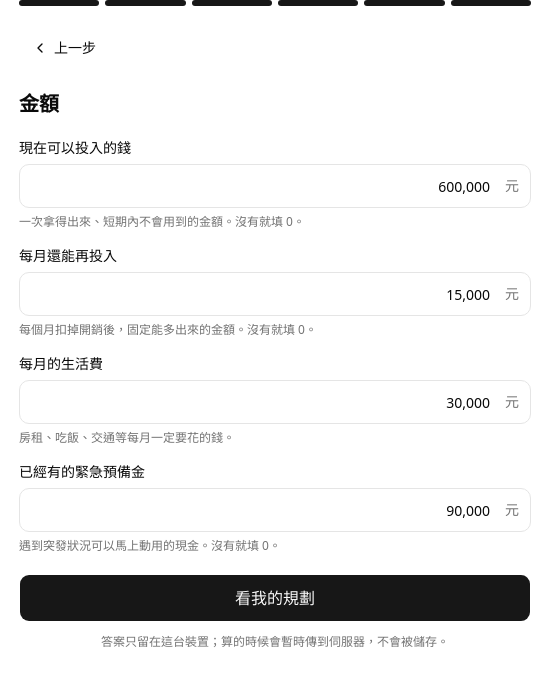
Test: QuestionnaireWizard › shows an amount error only after the field is blurred
The width and height of the screenshot is (551, 690).
Replace the text in the field labelled "現在可以投入的錢" with "12.5" at (275, 186), box [19, 164, 531, 208]
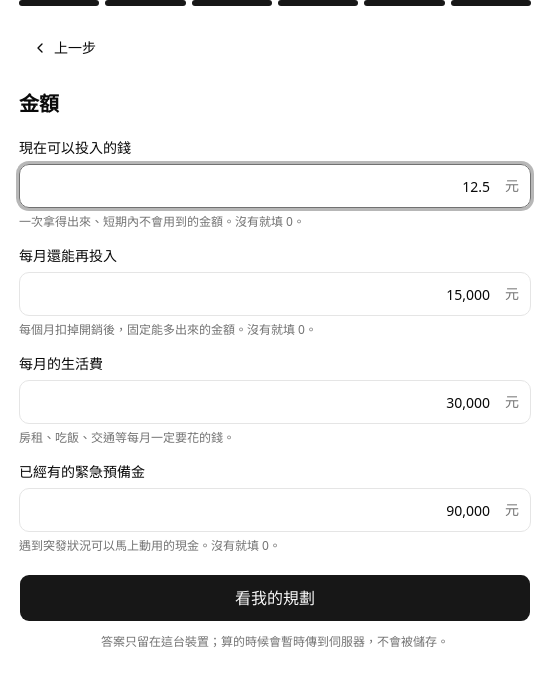
Check: the text "請只填整數數字，不要有小數點、負號或文字。" is not shown
Press Tab
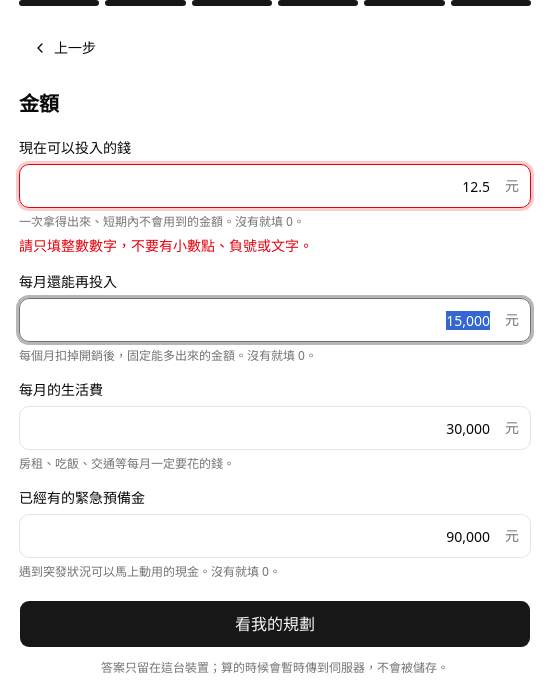
Check: the text "請只填整數數字，不要有小數點、負號或文字。" is shown, box [19, 236, 313, 255]
